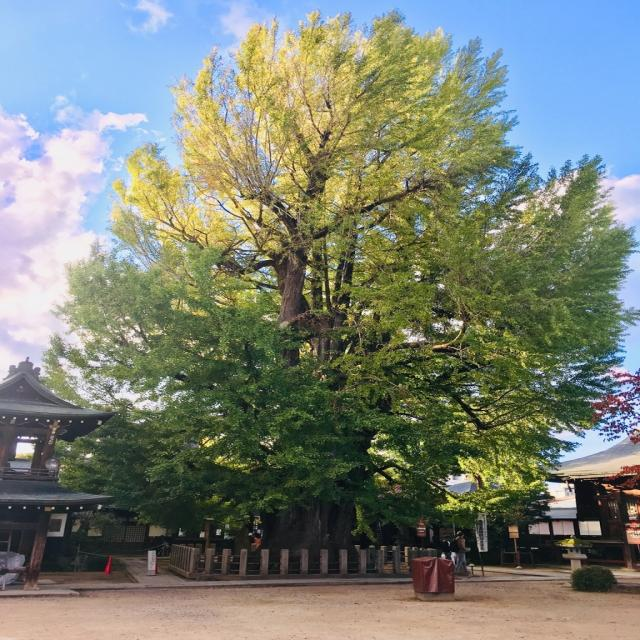ginkgo: (40, 6, 640, 562)
